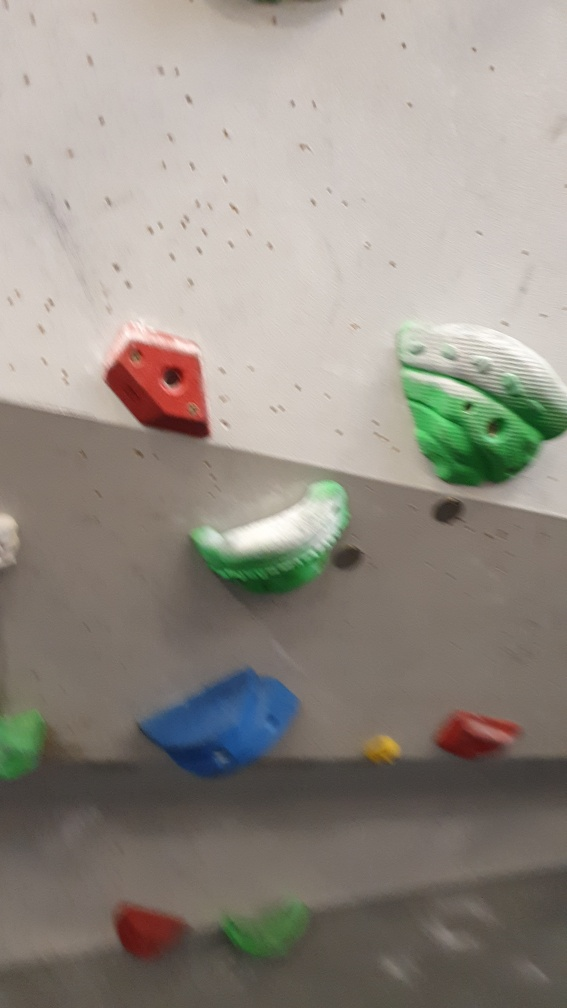Crimp: (102, 319, 217, 439), (430, 702, 526, 770)
Hand Start: (332, 540, 366, 577), (431, 495, 465, 528)
Jug: (394, 322, 567, 490), (187, 472, 357, 600)
Pinch: (133, 661, 302, 781)
